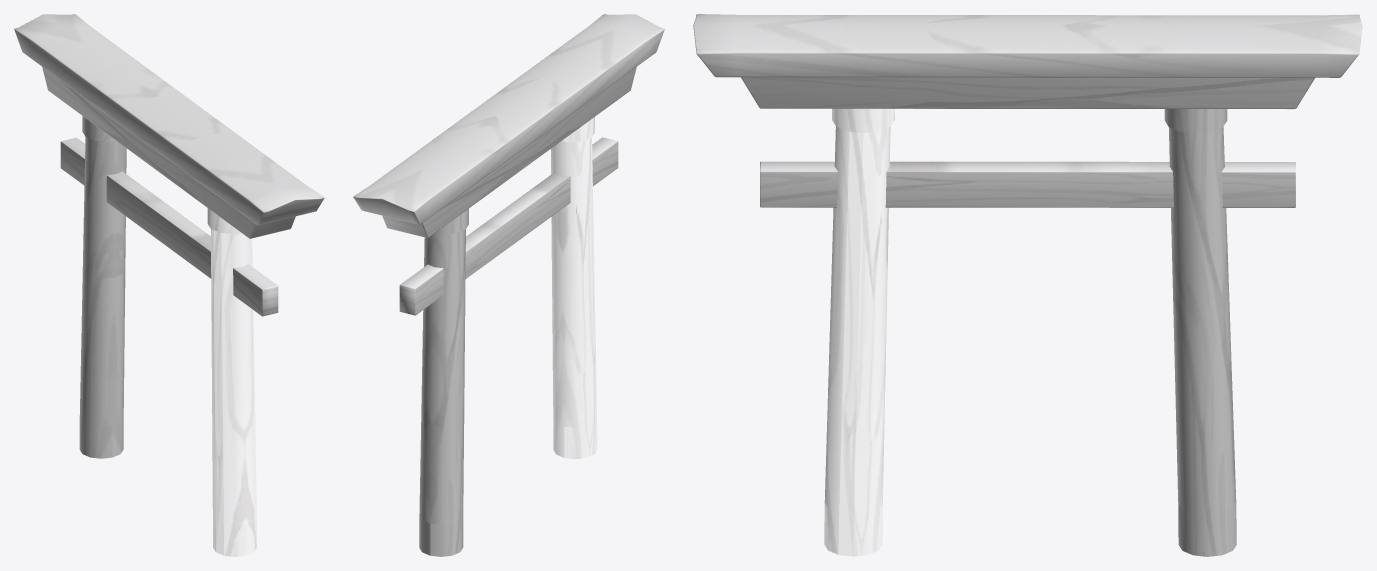
The model's file is Torii.fbx.
The picture shows the model from 3 angles, left to right: view 1: azimuth 30°, elevation 25°; view 2: azimuth 150°, elevation 25°; view 3: azimuth 270°, elevation 25°; orthographic projection. The views are drawn at different scales.
Parts seen in each view (by area): view 1: Cube, Cylinder, Cylinder.001, Cube.002; view 2: Cube, Cylinder.001, Cylinder, Cube.002; view 3: Cube, Cylinder, Cylinder.001, Cube.002.
Part boxes in pixels (x1,y1,x2,y2): Cube: [14, 14, 324, 238]; Cylinder: [207, 208, 256, 556]; Cylinder.001: [79, 116, 126, 458]; Cube.002: [60, 137, 278, 316]; Cube: [353, 14, 664, 237]; Cylinder.001: [419, 208, 468, 556]; Cylinder: [550, 117, 597, 459]; Cube.002: [399, 137, 618, 315]; Cube: [693, 14, 1362, 109]; Cylinder: [824, 108, 894, 556]; Cylinder.001: [1164, 109, 1236, 556]; Cube.002: [760, 161, 1295, 207].
Bounding box in the file's own units: 62.47 × 375 × 438.
